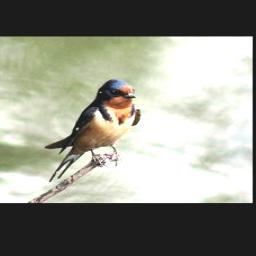Swallow: (48, 78, 144, 183)
